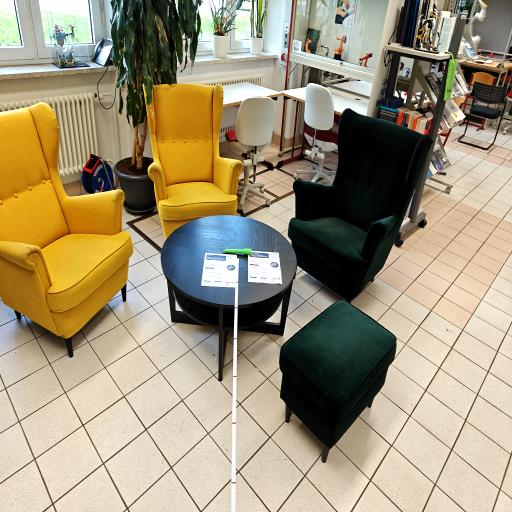Probe-Detection: (223, 248, 251, 255)
